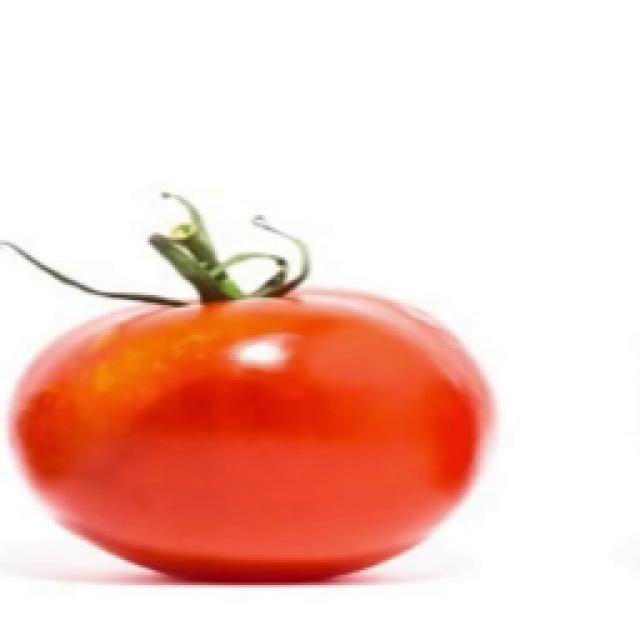tomato: (15, 288, 497, 584)
